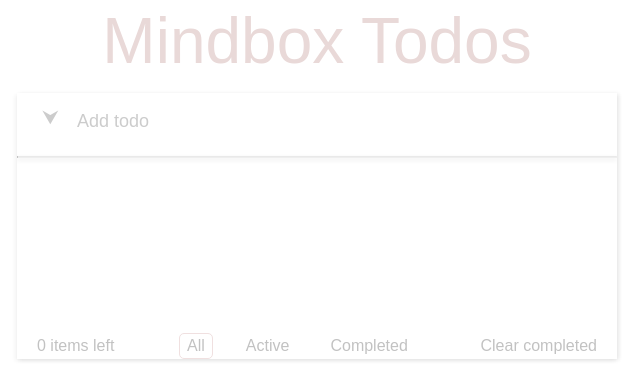
Test case: Card Component › не должен отображать завершенные задачи при фильтрации 'Active'
In the field with placeholder "Add todo": coordinates (317, 117) [17,101,617,133], type "Completed Task"
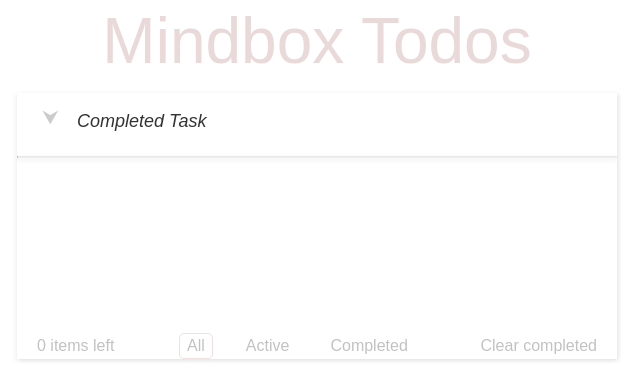
Submit the form with placeholder "Add todo", box [17,93,617,141]
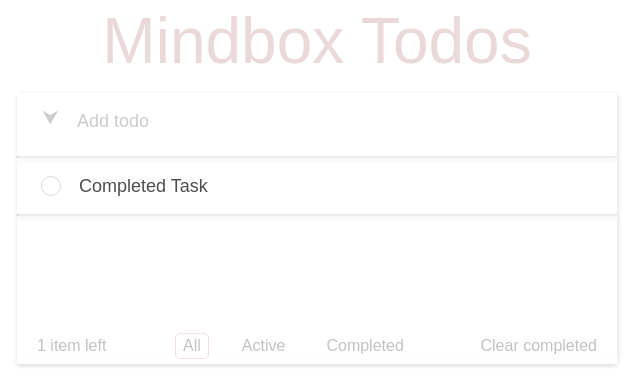
Click the checkbox: coordinates (51, 186) [41,176,61,196]
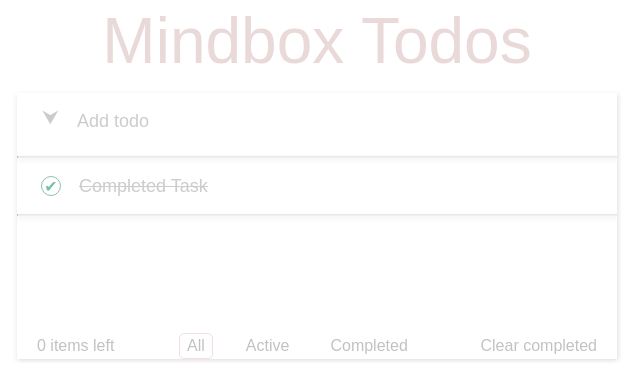
Click the list item "Active": coordinates (268, 346) [246,337,290,354]
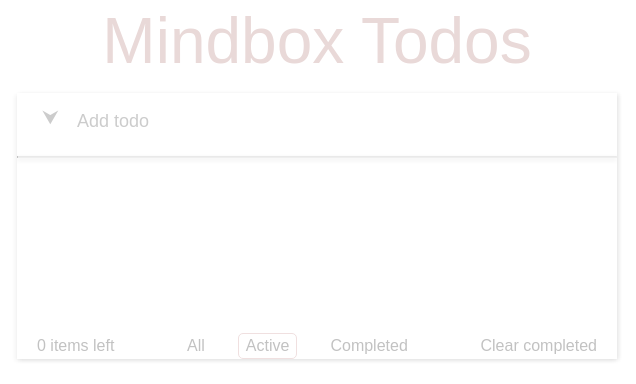
Expected: the text "Completed Task" is gone
